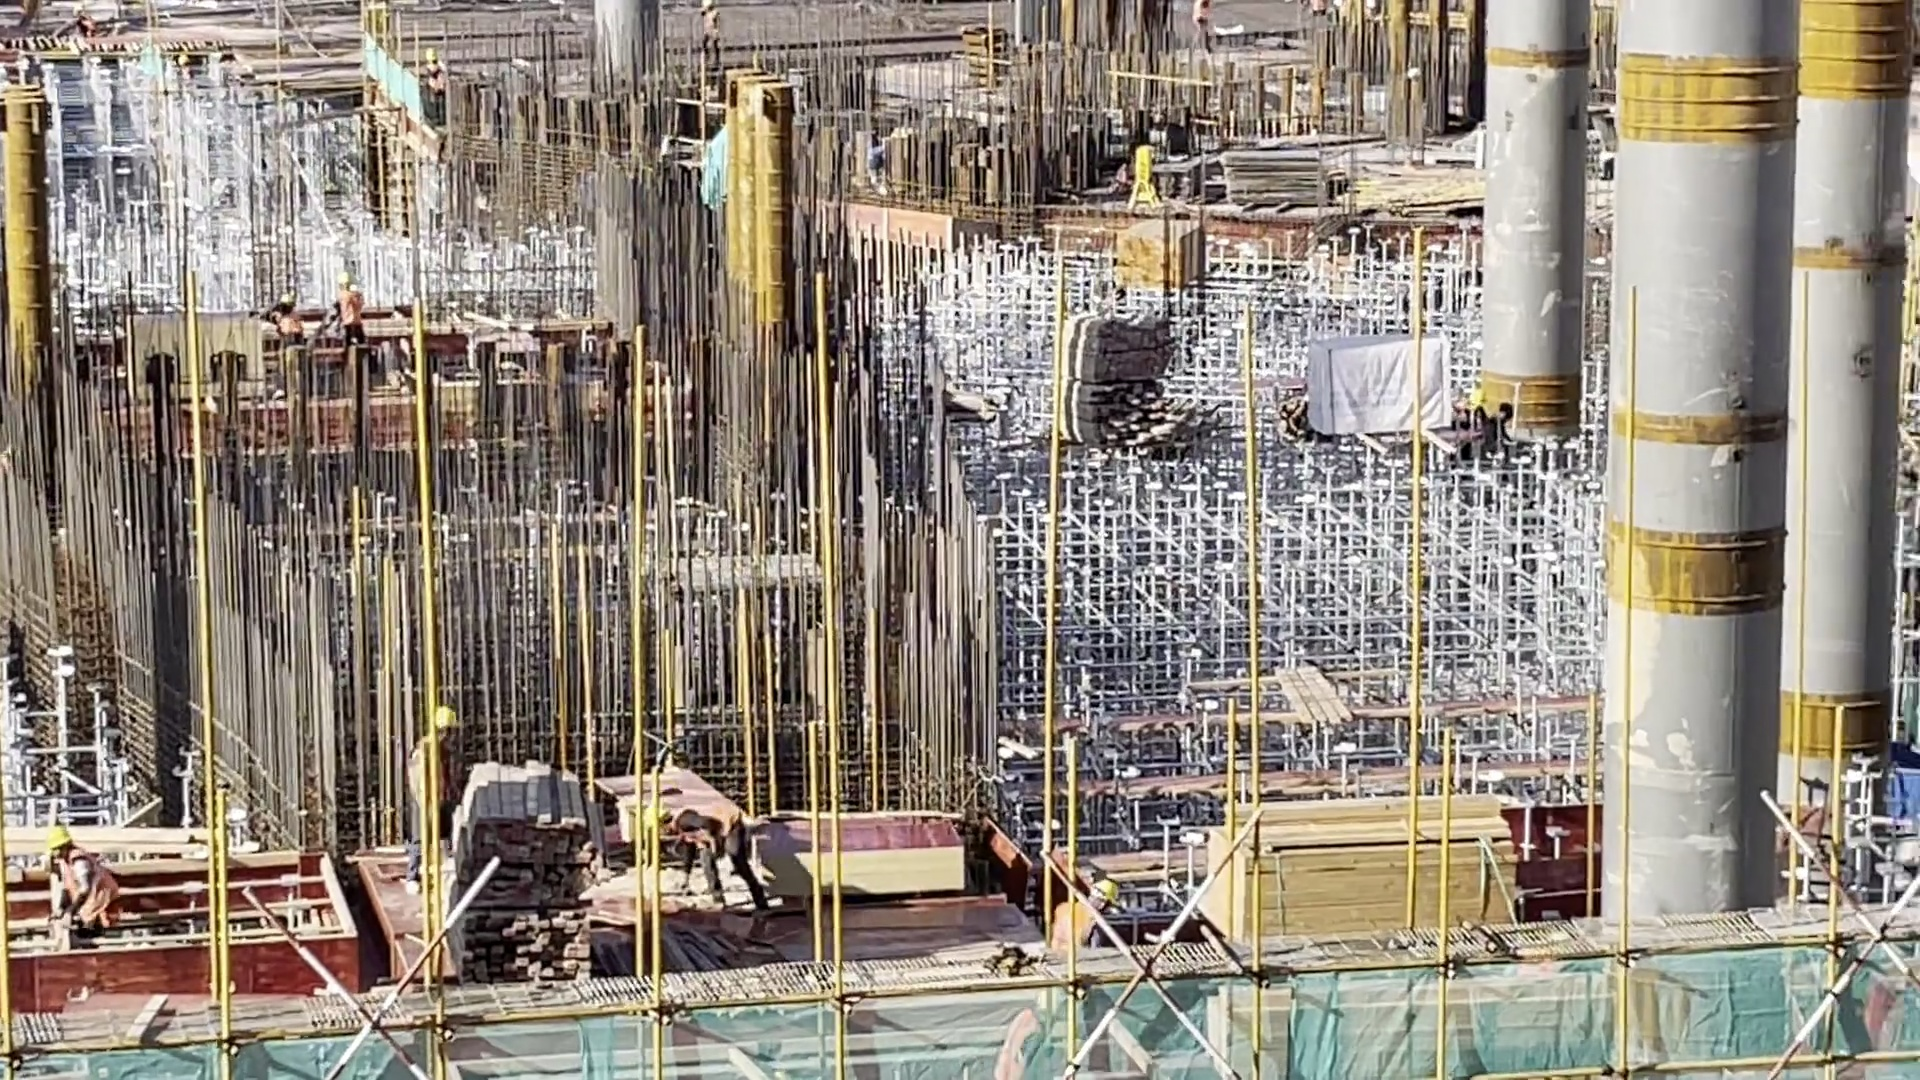board: (746, 808, 979, 912)
helmet: (635, 792, 672, 839), (1093, 870, 1133, 909), (431, 705, 464, 738), (50, 823, 76, 850)
person: (615, 789, 775, 918), (19, 809, 106, 943), (404, 701, 470, 834), (1063, 865, 1117, 960), (330, 264, 364, 337), (270, 287, 301, 363)
vest: (39, 855, 124, 930), (668, 807, 755, 870), (1031, 896, 1096, 957)
wood: (1192, 775, 1514, 967), (426, 741, 610, 1008)
